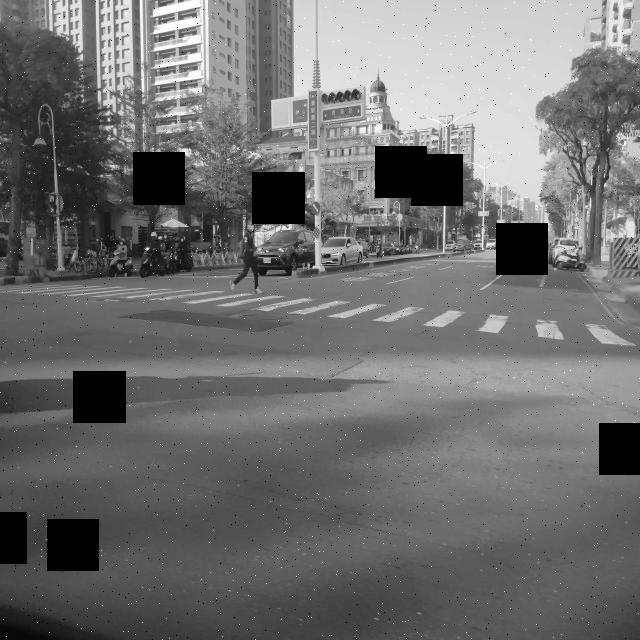person: (230, 219, 261, 293), (116, 237, 128, 267)
zebra crossing: (10, 283, 635, 347)
